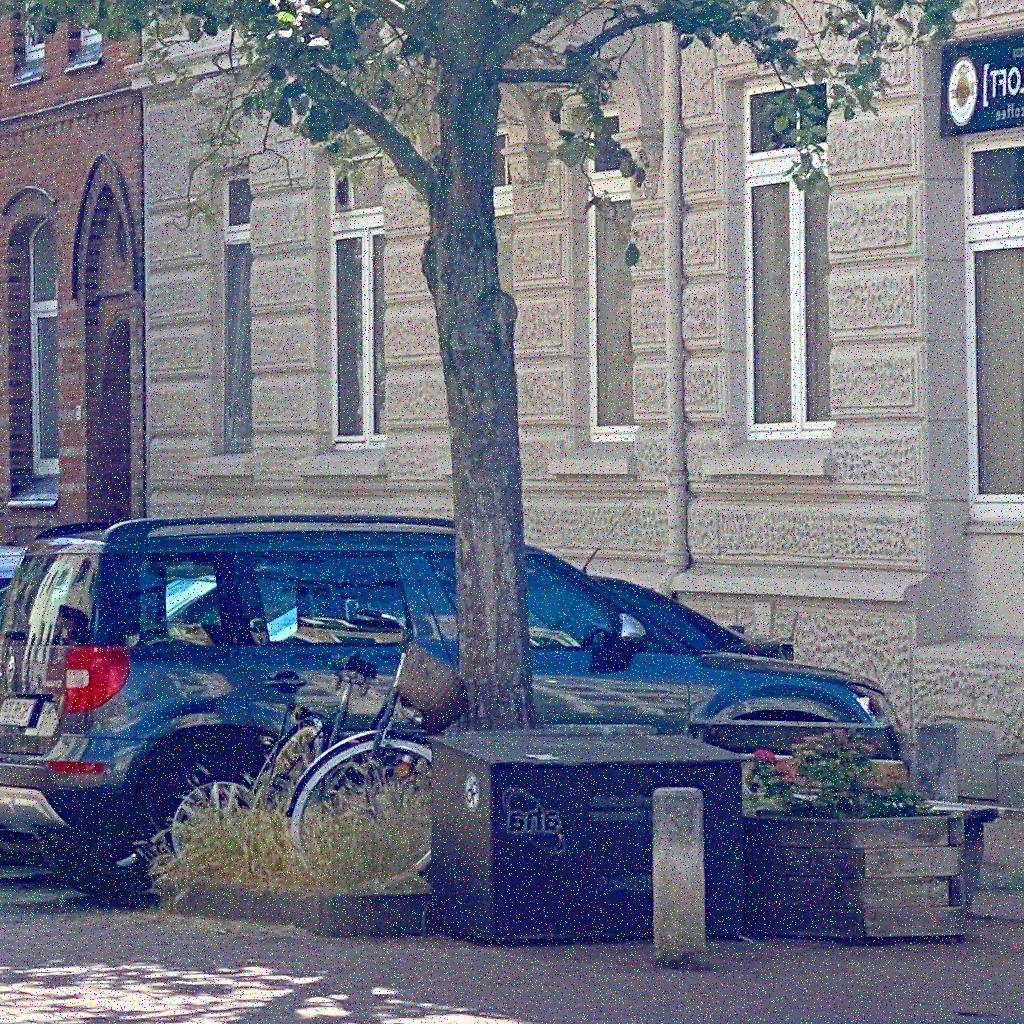tree: (1, 1, 979, 727)
